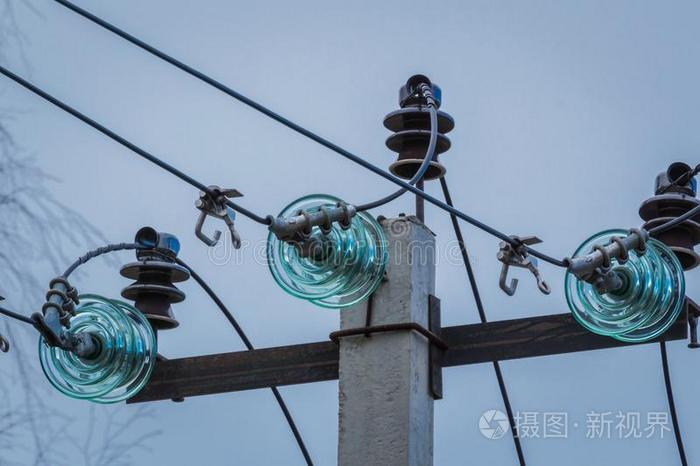insulator: (267, 199, 384, 308), (567, 232, 679, 344), (41, 295, 155, 404), (380, 106, 459, 178), (118, 258, 187, 329), (636, 194, 700, 268)
